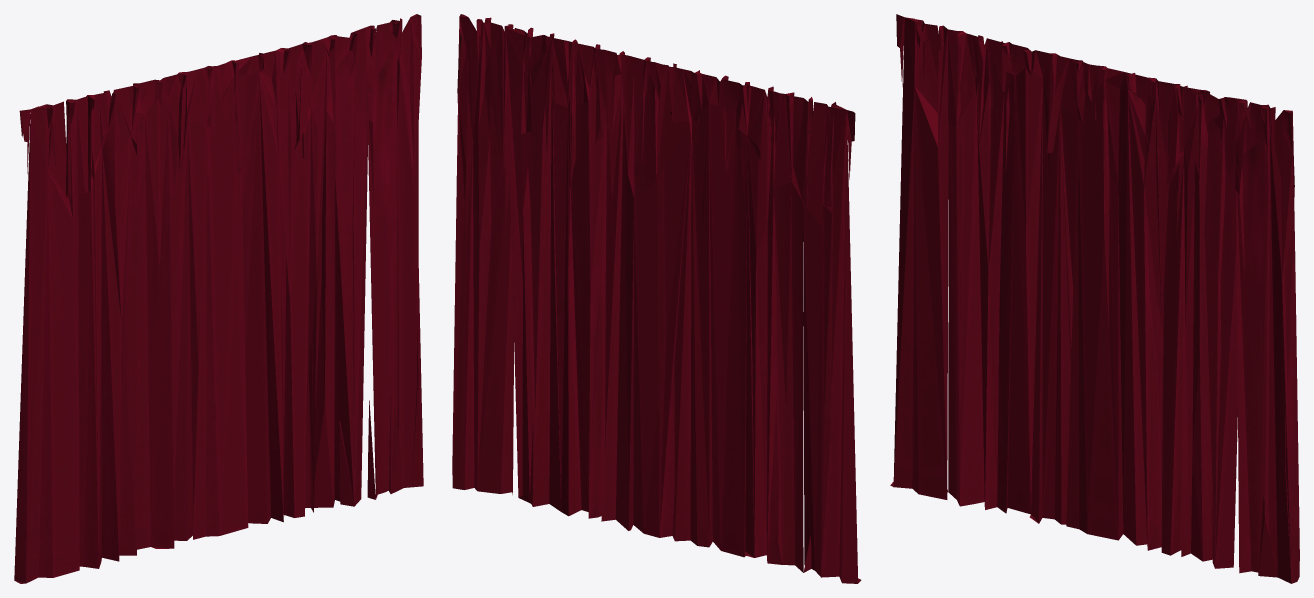
File: curtain_ai.glb
The picture shows the model from 3 angles, left to right: view 1: azimuth 30°, elevation 25°; view 2: azimuth 150°, elevation 25°; view 3: azimuth 330°, elevation 25°; orthographic projection.
Bounding box in the file's own units: 1.72 × 1.9 × 0.0938.
1 material, 1 textured.
